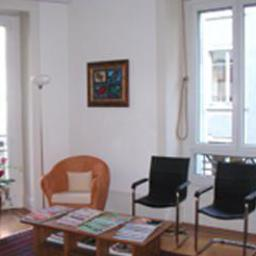Puerta: (0, 18, 17, 208)
